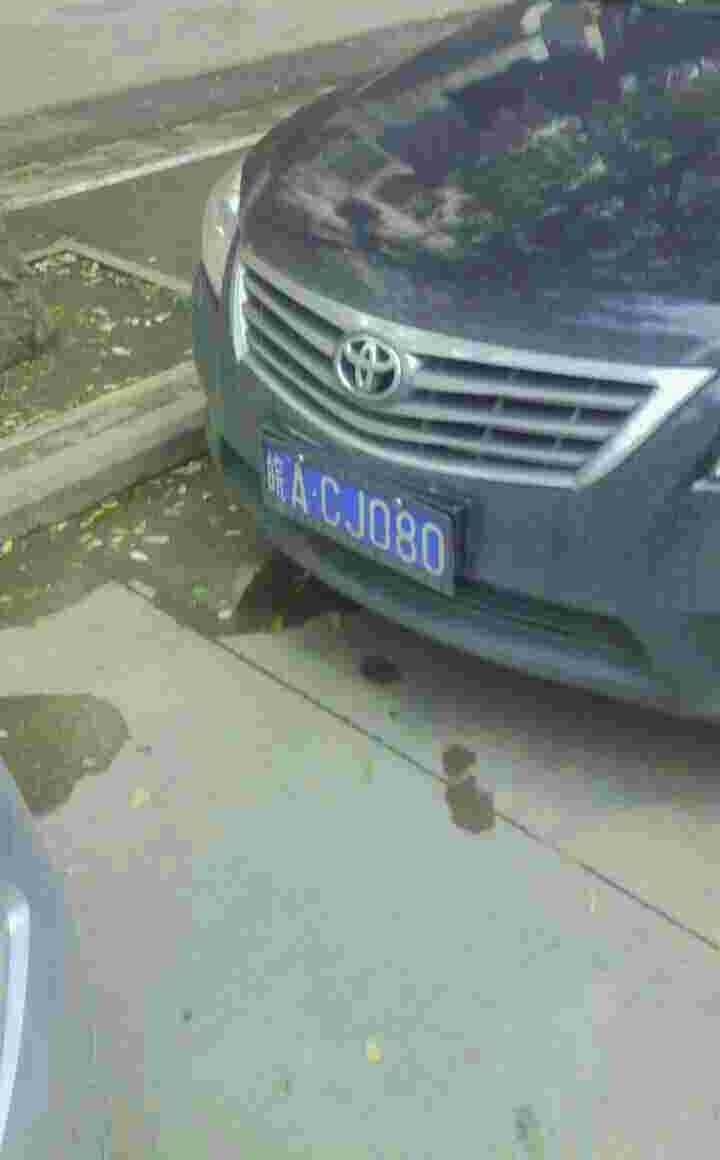license_plate: (262, 457, 452, 577)
